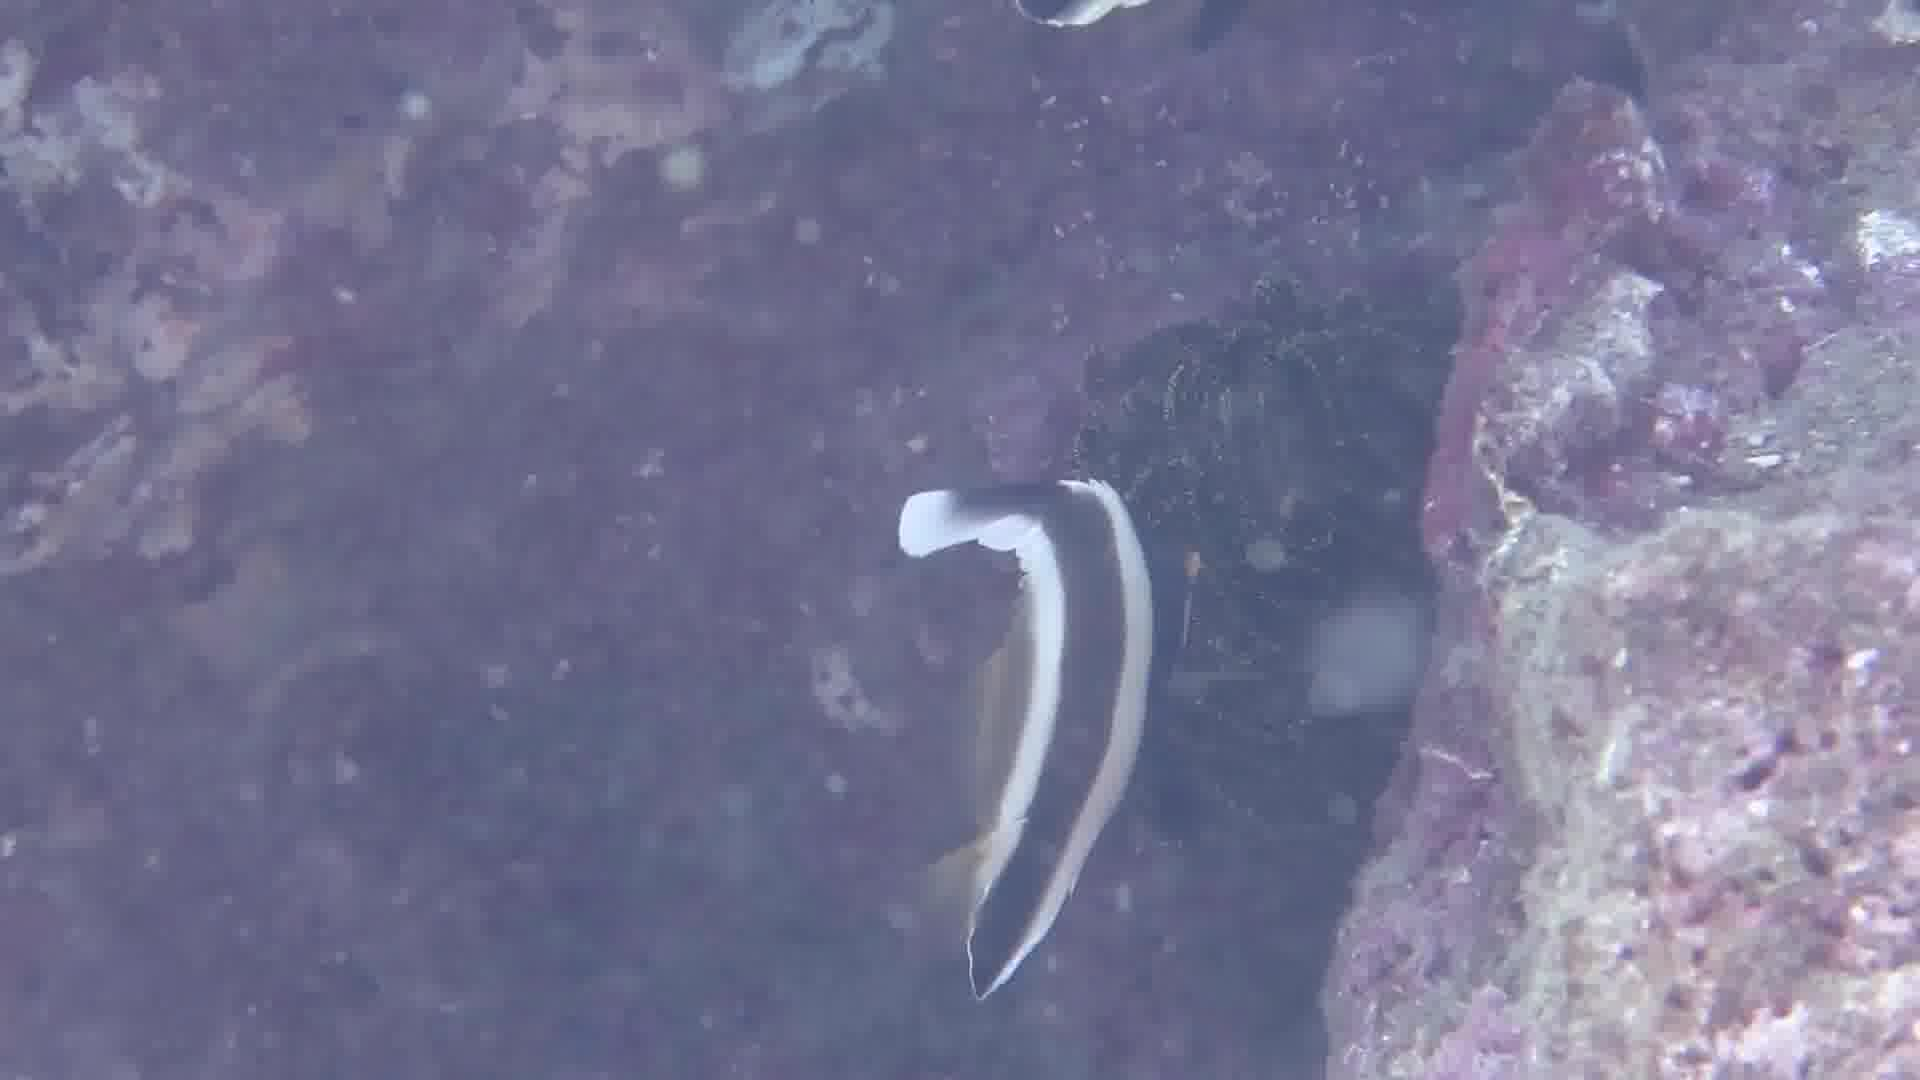Heniochus chrysostomus: (731, 414, 1375, 1004)
